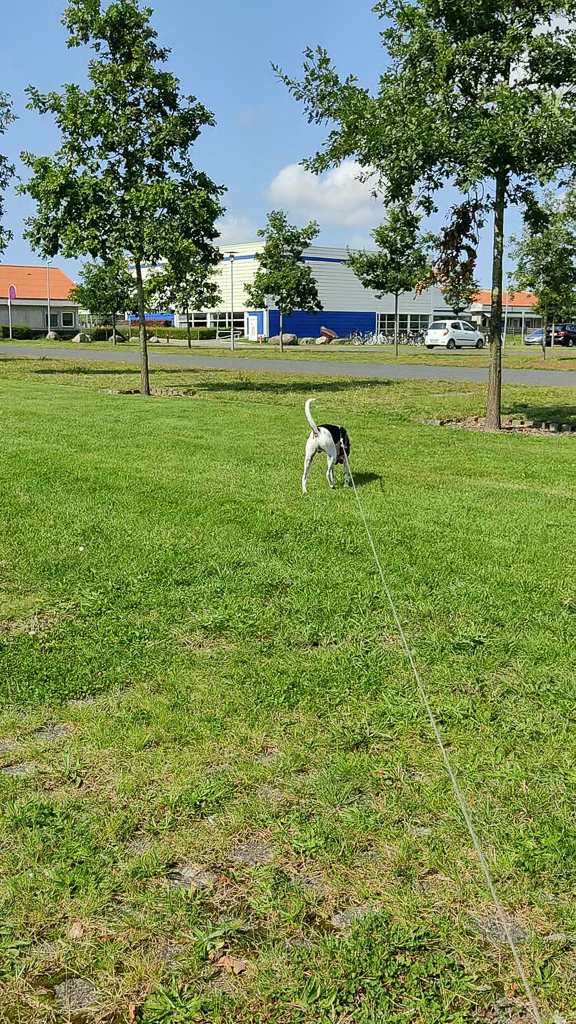Dog: (292, 395, 361, 499)
